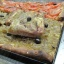pizza: (1, 1, 64, 20)
